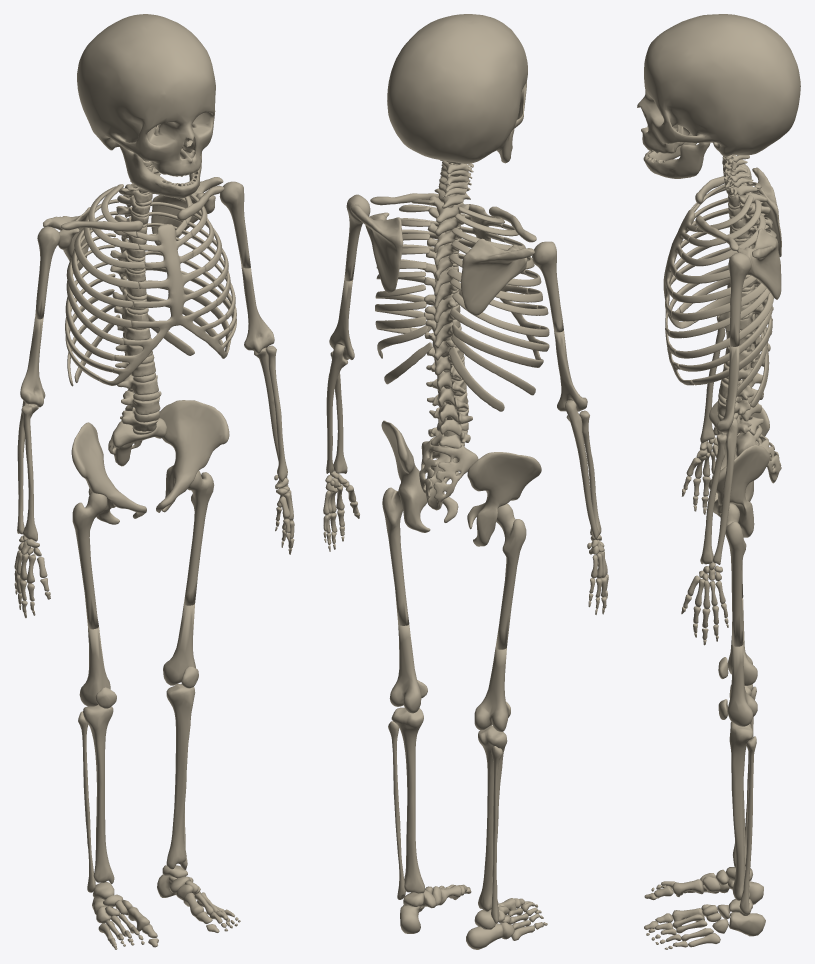
Rendered from pediatric_child_5y_male.skeletal.LOD0.glb.
3 views of the same model, side by side, from view 1: azimuth 30°, elevation 25°; view 2: azimuth 150°, elevation 25°; view 3: azimuth 270°, elevation 25° (orthographic).
Parts seen in each view (by area): view 1: PEDIATRIC.CHILD_5Y.MALE.SKELETAL.CRANIUM_CORTICAL, PEDIATRIC.CHILD_5Y.MALE.SKELETAL.RIBS_CORTICAL, PEDIATRIC.CHILD_5Y.MALE.SKELETAL.PELVIS_CORTICAL, PEDIATRIC.CHILD_5Y.MALE.SKELETAL.CARTILAGE_TRUNK, PEDIATRIC.CHILD_5Y.MALE.SKELETAL.TIBIAE_CORTICAL, PEDIATRIC.CHILD_5Y.MALE.SKELETAL.ANKLES_AND_FOOT_CORTICAL, PEDIATRIC.CHILD_5Y.MALE.SKELETAL.FEMORA_UPPER_CORTICAL, PEDIATRIC.CHILD_5Y.MALE.SKELETAL.THORACIC_SPINE_CORTICAL, PEDIATRIC.CHILD_5Y.MALE.SKELETAL.FEMORA_LOWER_CORTICAL, PEDIATRIC.CHILD_5Y.MALE.SKELETAL.WRISTS_AND_HAND_BONES_CORTI, PEDIATRIC.CHILD_5Y.MALE.SKELETAL.HUMERI_LOWER_CORTICAL, PEDIATRIC.CHILD_5Y.MALE.SKELETAL.HUMERI_UPPER_CORTICAL (+9 smaller); view 2: PEDIATRIC.CHILD_5Y.MALE.SKELETAL.CRANIUM_CORTICAL, PEDIATRIC.CHILD_5Y.MALE.SKELETAL.RIBS_CORTICAL, PEDIATRIC.CHILD_5Y.MALE.SKELETAL.PELVIS_CORTICAL, PEDIATRIC.CHILD_5Y.MALE.SKELETAL.SCAPULAE_CORTICAL, PEDIATRIC.CHILD_5Y.MALE.SKELETAL.TIBIAE_CORTICAL, PEDIATRIC.CHILD_5Y.MALE.SKELETAL.THORACIC_SPINE_CORTICAL, PEDIATRIC.CHILD_5Y.MALE.SKELETAL.FEMORA_UPPER_CORTICAL, PEDIATRIC.CHILD_5Y.MALE.SKELETAL.ANKLES_AND_FOOT_CORTICAL, PEDIATRIC.CHILD_5Y.MALE.SKELETAL.FEMORA_LOWER_CORTICAL, PEDIATRIC.CHILD_5Y.MALE.SKELETAL.WRISTS_AND_HAND_BONES_CORTI, PEDIATRIC.CHILD_5Y.MALE.SKELETAL.LUMBAR_SPINE_CORTICAL, PEDIATRIC.CHILD_5Y.MALE.SKELETAL.SACRUM_CORTICAL (+8 smaller); view 3: PEDIATRIC.CHILD_5Y.MALE.SKELETAL.CRANIUM_CORTICAL, PEDIATRIC.CHILD_5Y.MALE.SKELETAL.RIBS_CORTICAL, PEDIATRIC.CHILD_5Y.MALE.SKELETAL.ANKLES_AND_FOOT_CORTICAL, PEDIATRIC.CHILD_5Y.MALE.SKELETAL.WRISTS_AND_HAND_BONES_CORTI, PEDIATRIC.CHILD_5Y.MALE.SKELETAL.PELVIS_CORTICAL, PEDIATRIC.CHILD_5Y.MALE.SKELETAL.SCAPULAE_CORTICAL, PEDIATRIC.CHILD_5Y.MALE.SKELETAL.TIBIAE_CORTICAL, PEDIATRIC.CHILD_5Y.MALE.SKELETAL.CARTILAGE_TRUNK, PEDIATRIC.CHILD_5Y.MALE.SKELETAL.FEMORA_LOWER_CORTICAL, PEDIATRIC.CHILD_5Y.MALE.SKELETAL.RADII_CORTICAL, PEDIATRIC.CHILD_5Y.MALE.SKELETAL.FEMORA_UPPER_CORTICAL, PEDIATRIC.CHILD_5Y.MALE.SKELETAL.LUMBAR_SPINE_CORTICAL (+9 smaller).
Part boxes in pixels (x1,y1,x2,y2): PEDIATRIC.CHILD_5Y.MALE.SKELETAL.CRANIUM_CORTICAL: (77,14,215,176); PEDIATRIC.CHILD_5Y.MALE.SKELETAL.RIBS_CORTICAL: (65,184,236,386); PEDIATRIC.CHILD_5Y.MALE.SKELETAL.PELVIS_CORTICAL: (71,400,229,524); PEDIATRIC.CHILD_5Y.MALE.SKELETAL.CARTILAGE_TRUNK: (98,159,229,434); PEDIATRIC.CHILD_5Y.MALE.SKELETAL.TIBIAE_CORTICAL: (83,684,195,883); PEDIATRIC.CHILD_5Y.MALE.SKELETAL.ANKLES_AND_FOOT_CORTICAL: (92,865,240,949); PEDIATRIC.CHILD_5Y.MALE.SKELETAL.FEMORA_UPPER_CORTICAL: (72,471,214,629); PEDIATRIC.CHILD_5Y.MALE.SKELETAL.THORACIC_SPINE_CORTICAL: (110,184,152,340); PEDIATRIC.CHILD_5Y.MALE.SKELETAL.FEMORA_LOWER_CORTICAL: (79,604,195,706); PEDIATRIC.CHILD_5Y.MALE.SKELETAL.WRISTS_AND_HAND_BONES_CORTI: (14,475,294,618); PEDIATRIC.CHILD_5Y.MALE.SKELETAL.HUMERI_LOWER_CORTICAL: (20,267,274,407); PEDIATRIC.CHILD_5Y.MALE.SKELETAL.HUMERI_UPPER_CORTICAL: (35,181,250,319); PEDIATRIC.CHILD_5Y.MALE.SKELETAL.CRANIUM_CORTICAL: (387,14,527,163); PEDIATRIC.CHILD_5Y.MALE.SKELETAL.RIBS_CORTICAL: (375,199,549,411); PEDIATRIC.CHILD_5Y.MALE.SKELETAL.PELVIS_CORTICAL: (381,420,541,546); PEDIATRIC.CHILD_5Y.MALE.SKELETAL.SCAPULAE_CORTICAL: (350,204,534,315); PEDIATRIC.CHILD_5Y.MALE.SKELETAL.TIBIAE_CORTICAL: (391,707,507,911); PEDIATRIC.CHILD_5Y.MALE.SKELETAL.THORACIC_SPINE_CORTICAL: (424,196,469,375); PEDIATRIC.CHILD_5Y.MALE.SKELETAL.FEMORA_UPPER_CORTICAL: (382,483,526,649); PEDIATRIC.CHILD_5Y.MALE.SKELETAL.ANKLES_AND_FOOT_CORTICAL: (400,884,547,949); PEDIATRIC.CHILD_5Y.MALE.SKELETAL.FEMORA_LOWER_CORTICAL: (389,624,507,731); PEDIATRIC.CHILD_5Y.MALE.SKELETAL.WRISTS_AND_HAND_BONES_CORTI: (323,471,608,614); PEDIATRIC.CHILD_5Y.MALE.SKELETAL.LUMBAR_SPINE_CORTICAL: (426,361,472,448); PEDIATRIC.CHILD_5Y.MALE.SKELETAL.SACRUM_CORTICAL: (419,437,478,510); PEDIATRIC.CHILD_5Y.MALE.SKELETAL.CRANIUM_CORTICAL: (637,14,800,156); PEDIATRIC.CHILD_5Y.MALE.SKELETAL.RIBS_CORTICAL: (669,182,776,407); PEDIATRIC.CHILD_5Y.MALE.SKELETAL.ANKLES_AND_FOOT_CORTICAL: (644,866,765,949); PEDIATRIC.CHILD_5Y.MALE.SKELETAL.WRISTS_AND_HAND_BONES_CORTI: (681,437,728,645); PEDIATRIC.CHILD_5Y.MALE.SKELETAL.PELVIS_CORTICAL: (708,401,769,537); PEDIATRIC.CHILD_5Y.MALE.SKELETAL.SCAPULAE_CORTICAL: (737,167,781,299); PEDIATRIC.CHILD_5Y.MALE.SKELETAL.TIBIAE_CORTICAL: (729,684,753,900); PEDIATRIC.CHILD_5Y.MALE.SKELETAL.CARTILAGE_TRUNK: (663,156,750,436); PEDIATRIC.CHILD_5Y.MALE.SKELETAL.FEMORA_LOWER_CORTICAL: (727,598,757,726); PEDIATRIC.CHILD_5Y.MALE.SKELETAL.RADII_CORTICAL: (700,315,726,564); PEDIATRIC.CHILD_5Y.MALE.SKELETAL.FEMORA_UPPER_CORTICAL: (725,503,746,646); PEDIATRIC.CHILD_5Y.MALE.SKELETAL.LUMBAR_SPINE_CORTICAL: (717,343,764,435).
Bounding box in the file's own units: 0.3466 × 1.09 × 0.1791.
